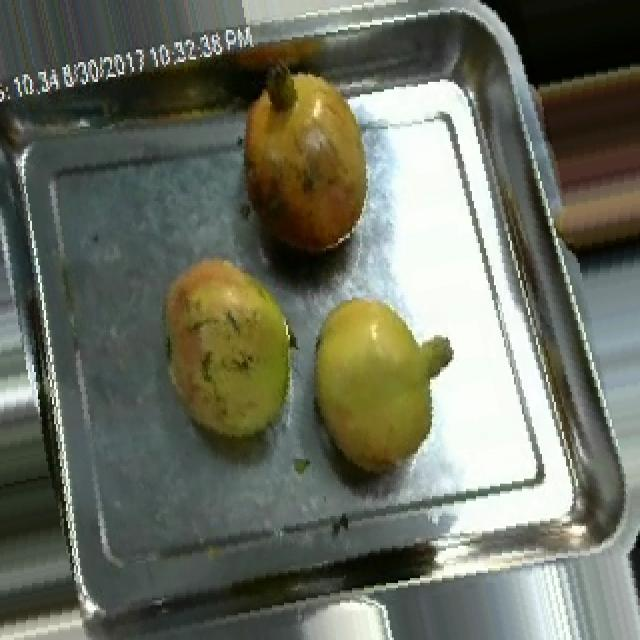fruit: (282, 270, 474, 501), (144, 236, 318, 464), (222, 45, 392, 275), (534, 50, 640, 201)
